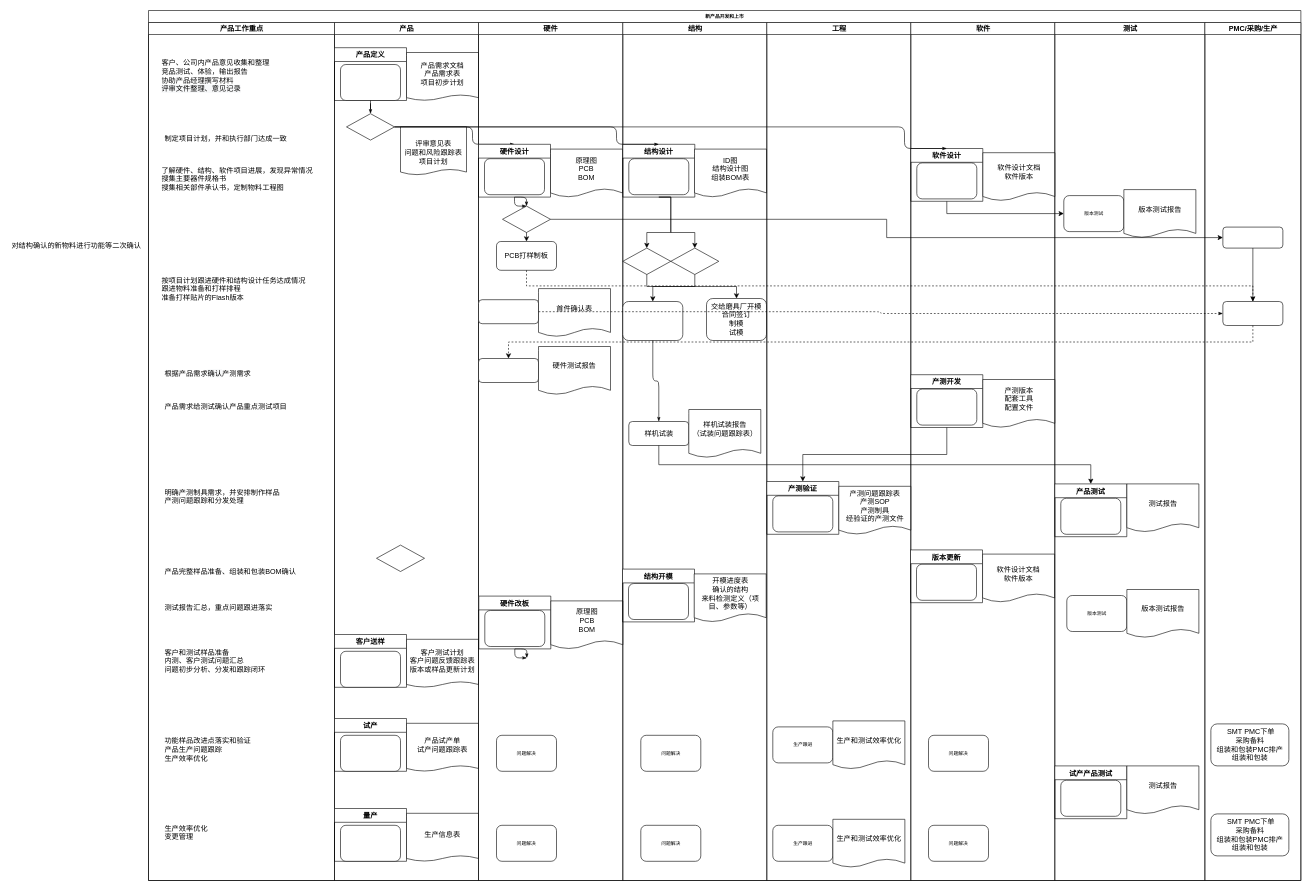
Image size: 1312x891. Some labels were removed from this diagram. The shapes that lost their labels are listed below. From the top down, each one's centre as x and y in pixels, then its label:
the point at 370,82: 用户需求搜集
the point at 370,126: 立项评审
the point at 514,176: 需求确认 原理图设计 PCB设计 BOM整理
the point at 658,176: 需求确认 ID设计 结构设计 BOM整理
the point at 946,180: 需求分解 设计 编码 单元测试
the point at 526,219: 硬件评审
the point at 1252,237: 按BOM电子物料备料
the point at 646,261: 结构评审
the point at 694,261: 客户确认
the point at 508,311: 首件确认
the point at 652,320: 按组装BOM新物料打样、已有物料确认库存
the point at 1252,313: SMT贴片
the point at 508,370: 硬件测试
the point at 946,406: 需求分解 设计（测试流程） 编码 单元测试
the point at 802,513: 需求确认
the point at 1090,516: 通用项测试 专项测试 新功能特性测试
the point at 400,558: 客户送样/小批评审
the point at 658,601: 图纸评审确认 开模申请 T0/T1/T2
the point at 946,582: 版本计划 设计 编码 单元测试
the point at 514,628: 需求确认 原理图更改 PCB更改 BOM整理
the point at 370,669: 样机测试 送样表 产品主要功能测试报告 主要器件和部件规格书
the point at 370,753: 试产通知 试产备料跟进 试产生产（SMT、测试、组装、包装）跟进 试产总结
the point at 1090,798: 通用项测试 专项测试 新功能特性测试 一致性测试
the point at 370,843: 确认客户订单 生产跟踪和验货 客户验货
